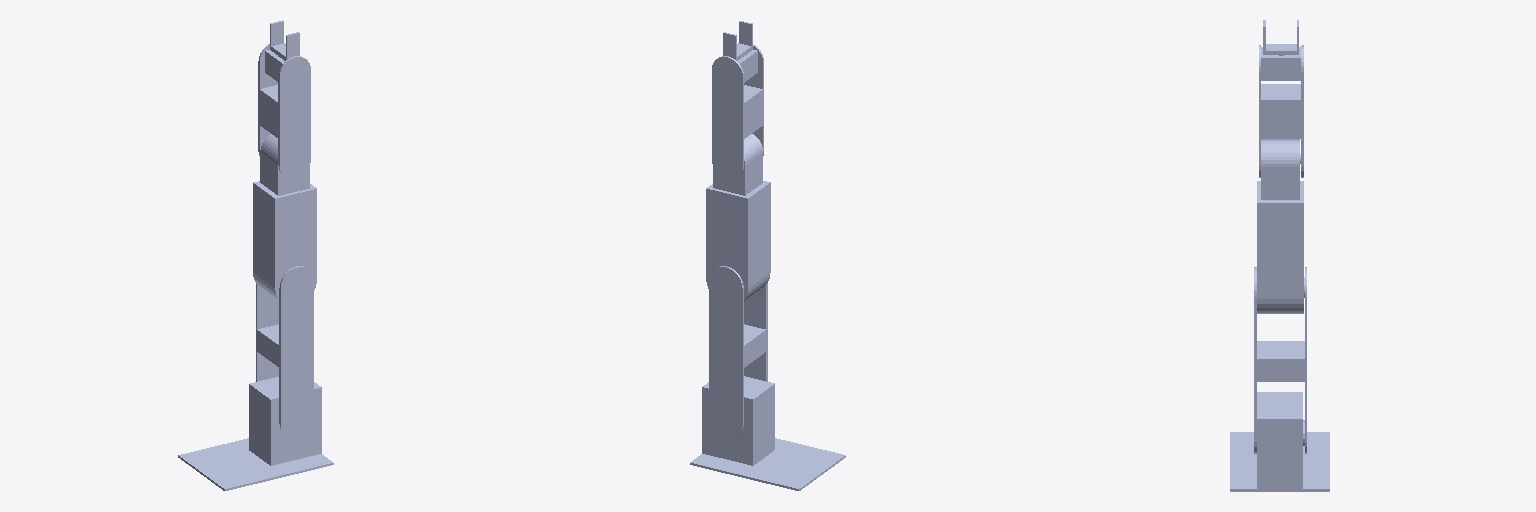
robot.urdf — meta_arm:
<?xml version="1.0" encoding="utf-8"?>
<robot
  name="meta_arm">
  <link
    name="base">
    <inertial>
      <origin
        xyz="-0.0742027935917747 3.05413983290649E-16 -0.0025"
        rpy="0 0 0" />
      <mass
        value="0.235462833058846" />
      <inertia
        ixx="0.000764080885007115"
        ixy="-3.24799497407441E-20"
        ixz="-8.3393971380193E-22"
        iyy="0.00132995847537163"
        iyz="4.11484004778525E-20"
        izz="0.002093058265241" />
    </inertial>
    <visual>
      <origin
        xyz="0 0 0"
        rpy="0 0 0" />
      <geometry>
        <mesh
          filename="package://meta_arm_urdf/meshes/base.STL" />
      </geometry>
      <material
        name="">
        <color
          rgba="0.792156862745098 0.819607843137255 0.933333333333333 1" />
      </material>
    </visual>
    <collision>
      <origin
        xyz="0 0 0"
        rpy="0 0 0" />
      <geometry>
        <mesh
          filename="package://meta_arm_urdf/meshes/base.STL" />
      </geometry>
    </collision>
  </link>
  <link
    name="link1">
    <inertial>
      <origin
        xyz="-1.71698563408863E-17 0.0761772305069067 1.65159673665141E-18"
        rpy="0 0 0" />
      <mass
        value="1.42471674547096" />
      <inertia
        ixx="0.0038222172238255"
        ixy="-9.01336770208009E-20"
        ixz="-2.09597168903305E-19"
        iyy="0.00300324345925799"
        iyz="3.82954102190966E-23"
        izz="0.00485119927570954" />
    </inertial>
    <visual>
      <origin
        xyz="0 0 0"
        rpy="0 0 0" />
      <geometry>
        <mesh
          filename="package://meta_arm_urdf/meshes/link1.STL" />
      </geometry>
      <material
        name="">
        <color
          rgba="0.792156862745098 0.819607843137255 0.933333333333333 1" />
      </material>
    </visual>
    <collision>
      <origin
        xyz="0 0 0"
        rpy="0 0 0" />
      <geometry>
        <mesh
          filename="package://meta_arm_urdf/meshes/link1.STL" />
      </geometry>
    </collision>
  </link>
  <joint
    name="joint1"
    type="revolute">
    <origin
      xyz="0 0 0"
      rpy="1.5708 0 0" />
    <parent
      link="base" />
    <child
      link="link1" />
    <axis
      xyz="0 1 0" />
    <limit
      lower="-3.14"
      upper="3.14"
      effort="0"
      velocity="1.0" />
  </joint>
  <link
    name="link2">
    <inertial>
      <origin
        xyz="1.38777878078145E-17 1.53705356762594E-16 -0.143599908458373"
        rpy="0 0 0" />
      <mass
        value="0.968286323314321" />
      <inertia
        ixx="0.0110201331290071"
        ixy="3.51025102103798E-19"
        ixz="-9.59070601707602E-20"
        iyy="0.0118164799173958"
        iyz="-5.17160875556214E-19"
        izz="0.0015780667423573" />
    </inertial>
    <visual>
      <origin
        xyz="0 0 0"
        rpy="0 0 0" />
      <geometry>
        <mesh
          filename="package://meta_arm_urdf/meshes/link2.STL" />
      </geometry>
      <material
        name="">
        <color
          rgba="0.792156862745098 0.819607843137255 0.933333333333333 1" />
      </material>
    </visual>
    <collision>
      <origin
        xyz="0 0 0"
        rpy="0 0 0" />
      <geometry>
        <mesh
          filename="package://meta_arm_urdf/meshes/link2.STL" />
      </geometry>
    </collision>
  </link>
  <joint
    name="joint2"
    type="revolute">
    <origin
      xyz="0 0.091 -0.00125"
      rpy="1.5708 1.5708 0" />
    <parent
      link="link1" />
    <child
      link="link2" />
    <axis
      xyz="-1 0 0" />
    <limit
      lower="-1.57"
      upper="1.57"
      effort="0"
      velocity="1.0" />
  </joint>
  <link
    name="link3">
    <inertial>
      <origin
        xyz="2.92300905702092E-16 -3.82335809788654E-15 -0.0863700260362851"
        rpy="0 0 0" />
      <mass
        value="2.11753537856957" />
      <inertia
        ixx="0.0120846819022611"
        ixy="-1.89134746684708E-20"
        ixz="3.30740074777038E-19"
        iyy="0.0118023140266831"
        iyz="-1.09452796852544E-16"
        izz="0.00328785684849757" />
    </inertial>
    <visual>
      <origin
        xyz="0 0 0"
        rpy="0 0 0" />
      <geometry>
        <mesh
          filename="package://meta_arm_urdf/meshes/link3.STL" />
      </geometry>
      <material
        name="">
        <color
          rgba="0.792156862745098 0.819607843137255 0.933333333333333 1" />
      </material>
    </visual>
    <collision>
      <origin
        xyz="0 0 0"
        rpy="0 0 0" />
      <geometry>
        <mesh
          filename="package://meta_arm_urdf/meshes/link3.STL" />
      </geometry>
    </collision>
  </link>
  <joint
    name="joint3"
    type="revolute">
    <origin
      xyz="-0.00025 0 -0.31"
      rpy="0 0 3.1416" />
    <parent
      link="link2" />
    <child
      link="link3" />
    <axis
      xyz="-1 0 0" />
    <limit
      lower="-1.57"
      upper="2.5"
      effort="0"
      velocity="1.0" />
  </joint>
  <link
    name="link4">
    <inertial>
      <origin
        xyz="-2.44379169678233E-16 2.33508169941061E-15 -0.0502647297710455"
        rpy="0 0 0" />
      <mass
        value="0.521720813248572" />
      <inertia
        ixx="0.000687643338605884"
        ixy="-3.04162654961097E-20"
        ixz="4.15373224957524E-20"
        iyy="0.000696602169902333"
        iyz="3.62893330073847E-18"
        izz="0.000491817593850539" />
    </inertial>
    <visual>
      <origin
        xyz="0 0 0"
        rpy="0 0 0" />
      <geometry>
        <mesh
          filename="package://meta_arm_urdf/meshes/link4.STL" />
      </geometry>
      <material
        name="">
        <color
          rgba="0.792156862745098 0.819607843137255 0.933333333333333 1" />
      </material>
    </visual>
    <collision>
      <origin
        xyz="0 0 0"
        rpy="0 0 0" />
      <geometry>
        <mesh
          filename="package://meta_arm_urdf/meshes/link4.STL" />
      </geometry>
    </collision>
  </link>
  <joint
    name="joint4"
    type="revolute">
    <origin
      xyz="0 0 -0.205"
      rpy="0 0 0" />
    <parent
      link="link3" />
    <child
      link="link4" />
    <axis
      xyz="0 0 -1" />
    <limit
      lower="-3.14"
      upper="3.14"
      effort="0"
      velocity="1.0" />
  </joint>
  <link
    name="link5">
    <inertial>
      <origin
        xyz="-0.039 1.89927974895701E-15 -0.0983708415061231"
        rpy="0 0 0" />
      <mass
        value="0.706009175063607" />
      <inertia
        ixx="0.00201246168289551"
        ixy="6.40384401839679E-20"
        ixz="2.28641175131268E-20"
        iyy="0.00229655701968614"
        iyz="-8.94347657872299E-20"
        izz="0.000908210245201147" />
    </inertial>
    <visual>
      <origin
        xyz="0 0 0"
        rpy="0 0 0" />
      <geometry>
        <mesh
          filename="package://meta_arm_urdf/meshes/link5.STL" />
      </geometry>
      <material
        name="">
        <color
          rgba="0.792156862745098 0.819607843137255 0.933333333333333 1" />
      </material>
    </visual>
    <collision>
      <origin
        xyz="0 0 0"
        rpy="0 0 0" />
      <geometry>
        <mesh
          filename="package://meta_arm_urdf/meshes/link5.STL" />
      </geometry>
    </collision>
  </link>
  <joint
    name="joint5"
    type="revolute">
    <origin
      xyz="0.0375 0 -0.07"
      rpy="0 0 0" />
    <parent
      link="link4" />
    <child
      link="link5" />
    <axis
      xyz="-1 0 0" />
    <limit
      lower="-1.4"
      upper="1.4"
      effort="0"
      velocity="1.0" />
  </joint>
  <link
    name="link6">
    <inertial>
      <origin
        xyz="-0.0142157440945984 -2.40372790385075E-15 8.67361737988404E-19"
        rpy="0 0 0" />
      <mass
        value="0.186753319284327" />
      <inertia
        ixx="0.00013628613508953"
        ixy="1.30810752822336E-20"
        ixz="1.21928677484662E-20"
        iyy="0.000135516288656386"
        iyz="-4.46149141347757E-20"
        izz="8.03439360728914E-05" />
    </inertial>
    <visual>
      <origin
        xyz="0 0 0"
        rpy="0 0 0" />
      <geometry>
        <mesh
          filename="package://meta_arm_urdf/meshes/link6.STL" />
      </geometry>
      <material
        name="">
        <color
          rgba="0.792156862745098 0.819607843137255 0.933333333333333 1" />
      </material>
    </visual>
    <collision>
      <origin
        xyz="0 0 0"
        rpy="0 0 0" />
      <geometry>
        <mesh
          filename="package://meta_arm_urdf/meshes/link6.STL" />
      </geometry>
    </collision>
  </link>
  <joint
    name="joint6"
    type="revolute">
    <origin
      xyz="-0.039 0 -0.216"
      rpy="0 1.5708 0" />
    <parent
      link="link5" />
    <child
      link="link6" />
    <axis
      xyz="0 0 1" />
    <limit
      lower="-1.57"
      upper="1.57"
      effort="0"
      velocity="1.0" />
  </joint>
  <link
    name="claw">
    <inertial>
      <origin
        xyz="0.0279637775701443 -2.51721885916432E-15 -1.56125112837913E-17"
        rpy="0 0 0" />
      <mass
        value="0.0386507188014664" />
      <inertia
        ixx="2.72841926393243E-05"
        ixy="1.64033379407586E-21"
        ixz="-1.10954933952239E-20"
        iyy="3.69692266452374E-05"
        iyz="9.88457636474137E-21"
        izz="1.52192266452374E-05" />
    </inertial>
    <visual>
      <origin
        xyz="0 0 0"
        rpy="0 0 0" />
      <geometry>
        <mesh
          filename="package://meta_arm_urdf/meshes/claw.STL" />
      </geometry>
      <material
        name="">
        <color
          rgba="0.792156862745098 0.819607843137255 0.933333333333333 1" />
      </material>
    </visual>
    <collision>
      <origin
        xyz="0 0 0"
        rpy="0 0 0" />
      <geometry>
        <mesh
          filename="package://meta_arm_urdf/meshes/claw.STL" />
      </geometry>
    </collision>
  </link>
  <joint
    name="joint7"
    type="revolute">
    <origin
      xyz="0 0 0"
      rpy="0 0 0" />
    <parent
      link="link6" />
    <child
      link="claw" />
    <axis
      xyz="-1 0 0" />
    <limit
      lower="-3.14"
      upper="3.14"
      effort="0"
      velocity="1.0" />
  </joint>
  <!-- below is dummy shit-->
    <link name="gunmu1"/>
    <link name="gunmu2"/>
    <link name="gunmu3"/>
    <link name="gunmu4"/>
    <link name="gunmu5"/>
    <link name="gunmu6"/>
    <joint name="joint_end_eff_shooter_joint" type="revolute">
        <parent link="base" />
        <child link="gunmu1" />
        <axis xyz="-1 0 0" />
        <limit
      lower="-3.14"
      upper="3.14"
      effort="0"
      velocity="1.0" />
    </joint>
    <joint name="back_left_wheel_joint" type="revolute">
        <parent link="base" />
        <child link="gunmu2" />
        <axis xyz="-1 0 0" />
        <limit
      lower="-3.14"
      upper="3.14"
      effort="0"
      velocity="1.0" />
    </joint>
    <joint name="front_left_wheel_joint" type="revolute">
        <parent link="base" />
        <child link="gunmu3" />
        <axis xyz="-1 0 0" />
        <limit
      lower="-3.14"
      upper="3.14"
      effort="0"
      velocity="1.0" />
    </joint>
    <joint name="front_right_wheel_joint" type="revolute">
        <parent link="base" />
        <child link="gunmu4" />
        <axis xyz="-1 0 0" />
        <limit
      lower="-3.14"
      upper="3.14"
      effort="0"
      velocity="1.0" />
    </joint>
    <joint name="back_right_wheel_joint" type="revolute">
        <parent link="base" />
        <child link="gunmu5" />
        <axis xyz="-1 0 0" />
        <limit
      lower="-3.14"
      upper="3.14"
      effort="0"
      velocity="1.0" />
    </joint>
    <joint name="dummy_yaw_wheel_joint" type="revolute">
        <parent link="base" />
        <child link="gunmu6" />
        <axis xyz="-1 0 0" />
        <limit
      lower="-3.14"
      upper="3.14"
      effort="0"
      velocity="1.0" />
    </joint>
</robot>

--- What the picture shows (computed from the rendered views, not written in the file) ---
The picture shows the robot from 3 angles, left to right: view 1: azimuth 30°, elevation 25°; view 2: azimuth 150°, elevation 25°; view 3: azimuth 270°, elevation 25°; orthographic projection.
Model meta_arm with 14 links and 13 joints (13 revolute), rooted at base, posed every joint at zero.
Links seen in each view (by area): view 1: link2, link3, link5, link1, base, link4, claw; view 2: link2, link3, link5, link1, base, link4, claw; view 3: link3, link1, base, link2, link5, link4, link6.
Link boxes in pixels (x1,y1,x2,y2): link2: (256, 266, 313, 438); link3: (253, 181, 316, 300); link5: (258, 43, 310, 178); link1: (249, 377, 321, 465); base: (178, 438, 333, 490); link4: (260, 134, 309, 195); claw: (270, 20, 299, 60); link2: (709, 266, 767, 438); link3: (706, 181, 770, 300); link5: (712, 43, 763, 179); link1: (702, 376, 774, 465); base: (690, 438, 845, 490); link4: (713, 134, 762, 195); claw: (723, 21, 752, 60); link3: (1257, 181, 1303, 313); link1: (1257, 392, 1302, 488); base: (1230, 432, 1329, 491); link2: (1254, 267, 1306, 453); link5: (1259, 45, 1303, 177); link4: (1261, 139, 1299, 199); link6: (1261, 47, 1300, 80).
Size in the robot's own frame: 0.261 by 0.192 by 0.969 metres.
Meshes: 8 distinct files referenced, 8 mesh visuals loaded (8 binary STL).
